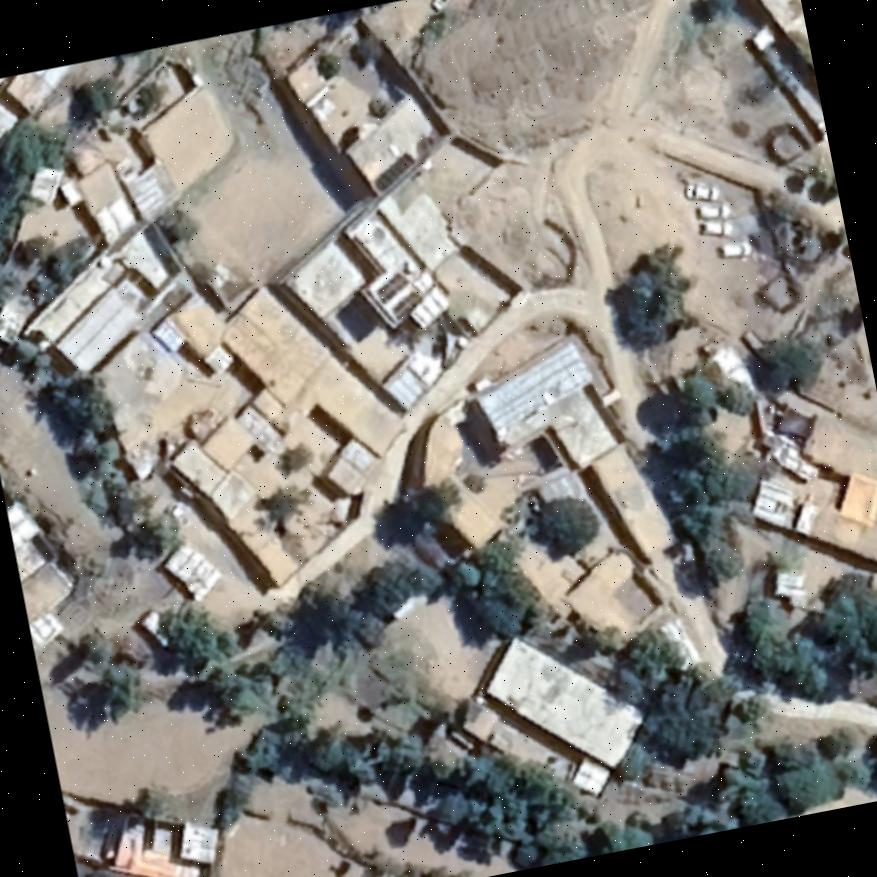Solarpanel: (365, 264, 412, 303), (387, 286, 427, 323)
